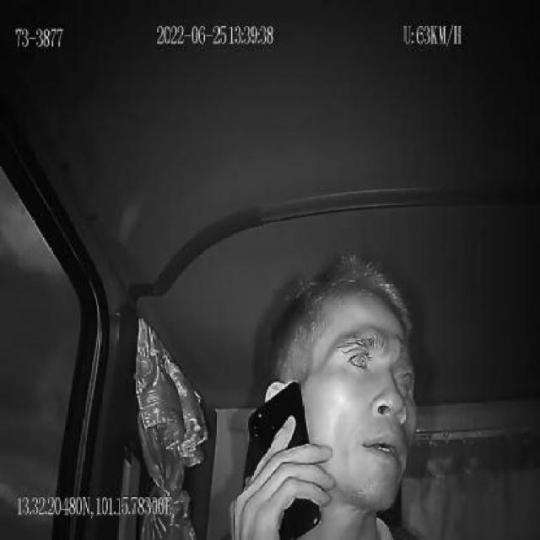phone: (247, 380, 321, 540)
